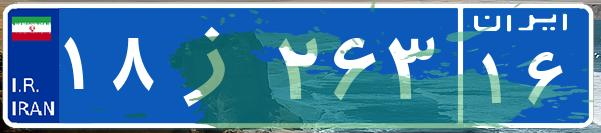1: (57, 26, 110, 107), (475, 38, 525, 113)
2: (273, 28, 330, 110)
3: (385, 28, 445, 110)
6: (330, 28, 385, 110), (525, 38, 570, 115)
8: (110, 28, 158, 105)
ز: (158, 15, 273, 115)
